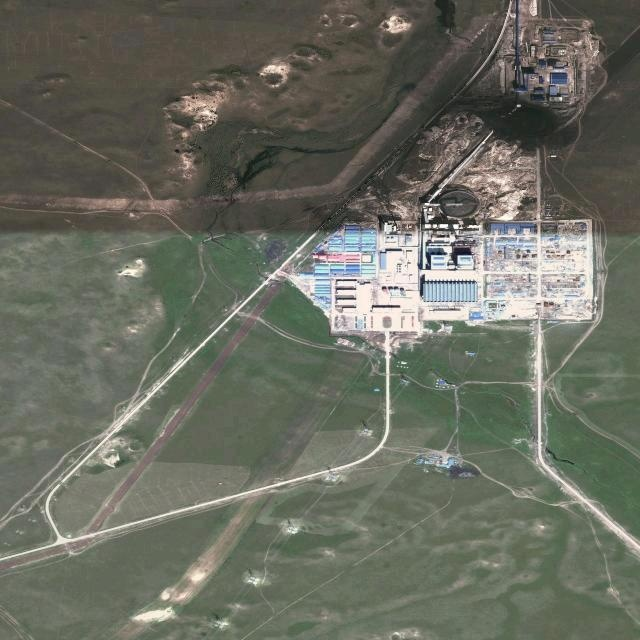coal_fired_power_plant: (419, 181, 483, 323)
